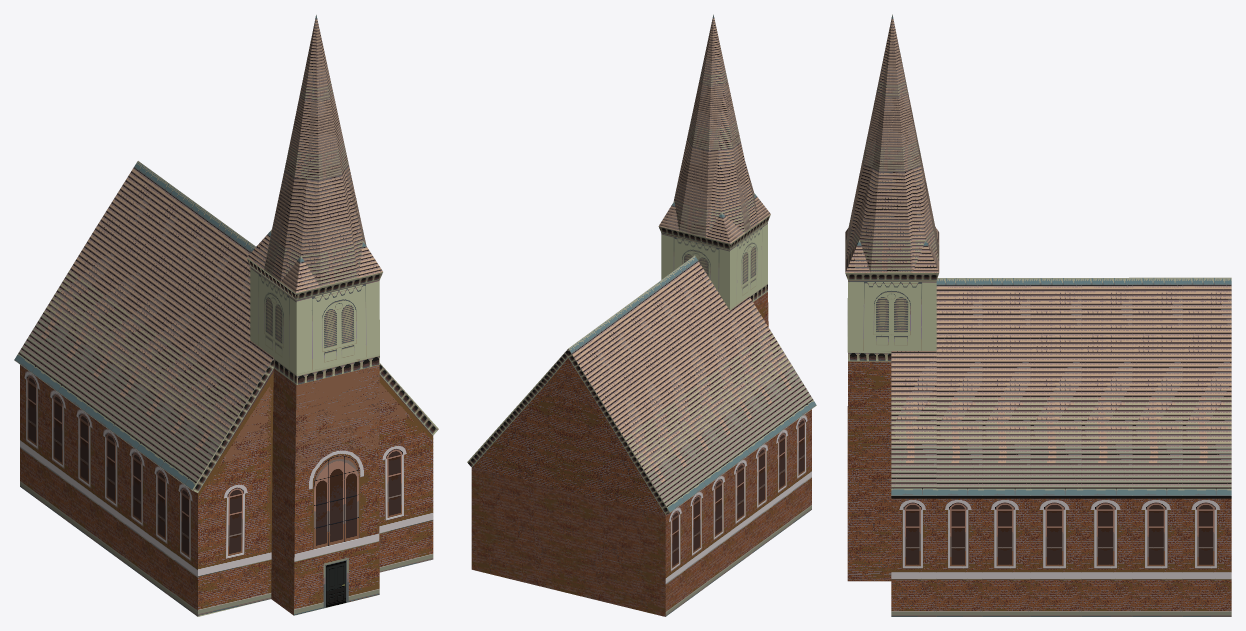
The model's file is church1 (1).glb.
3 views of the same model, side by side, from view 1: azimuth 30°, elevation 25°; view 2: azimuth 150°, elevation 25°; view 3: azimuth 270°, elevation 25° (orthographic). The views are drawn at different scales.
Parts seen in each view (by area): view 1: church; view 2: church; view 3: church.
Part boxes in pixels (bbox=[...]): church: bbox=[14, 15, 438, 616]; church: bbox=[467, 14, 816, 616]; church: bbox=[845, 14, 1231, 616].
Bounding box in the file's own units: 12.81 × 28.42 × 18.14.
1 material, 1 textured.
